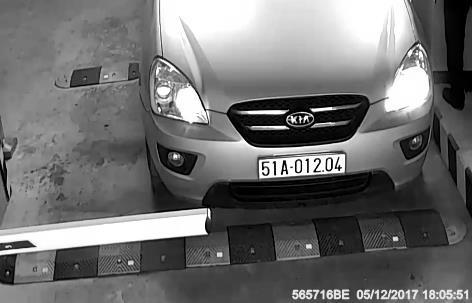License-plate: (255, 150, 355, 190)
